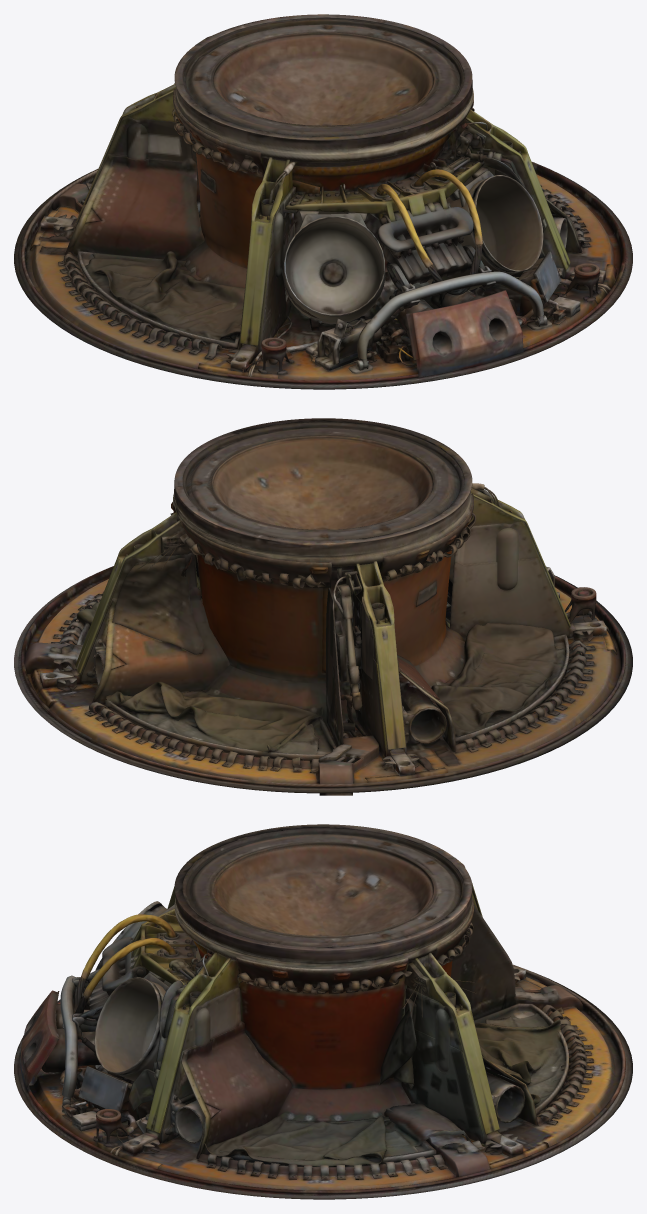
The model's file is exterior-top.glb.
3 renders of one model, top to bottom at view 1: azimuth 30°, elevation 25°; view 2: azimuth 150°, elevation 25°; view 3: azimuth 270°, elevation 25°, orthographic.
Bounding box in the file's own units: 196 × 66.17 × 196.
1 material, 1 textured.
